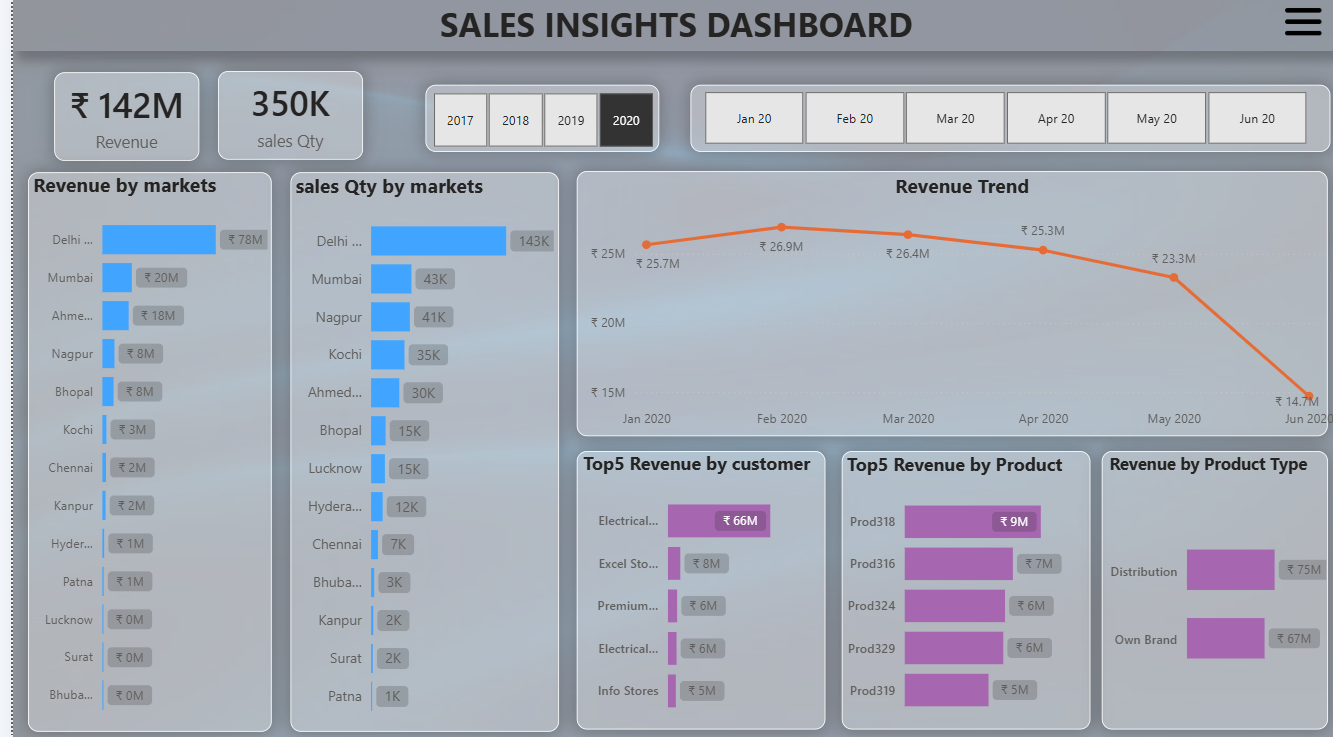

What the dashboard file says about the page in this screenshot:
{"tool":"powerbi","page":{"name":"Key Insight","canvas":[1280,720],"ordinal":0},"visuals":[{"type":"textbox","box":[0,0,1280.5,53],"z":0},{"type":"image","box":[1222,2.9,46.8,45.4],"z":1000},{"type":"shape","box":[197.8,72.4,139.9,85.6],"z":6000},{"type":"shape","box":[39.8,73.6,139.9,85.6],"z":7000},{"type":"shape","box":[267.7,170.1,259.3,540.3],"z":8000},{"type":"shape","box":[14.5,170.1,235.2,540.3],"z":9000},{"type":"card","fields":{"Values":["Base Measures 2.Revenue"]},"box":[39.8,73.6,139.9,84.4],"z":10000},{"type":"card","fields":{"Values":["Base Measures 2.sales Qty"]},"box":[197.8,71.2,139.9,86.8],"z":11000},{"type":"barChart","title":"Revenue by markets","fields":{"Category":["sales markets.markets_name"],"Y":["Base Measures 2.Revenue"]},"box":[14.5,168.8,236.4,540.3],"z":14000},{"type":"barChart","title":"sales Qty by markets","fields":{"Category":["sales markets.markets_name"],"Y":["Base Measures 2.sales Qty"]},"box":[267.7,170.1,259.3,540.3],"z":15000},{"type":"shape","box":[653.7,85.6,617.5,65.1],"z":16000},{"type":"shape","box":[398,85.6,225.5,65.1],"z":17000},{"type":"slicer","fields":{"Values":["sales date.year"]},"box":[379.9,86.8,261.7,65.1],"z":18000},{"type":"slicer","fields":{"Values":["sales date.cy_date"]},"box":[641.6,85.6,630.8,63.9],"z":19000},{"type":"shape","box":[543.9,168.8,724.8,255.7],"z":20000},{"type":"shape","box":[543.9,439,240,268.9],"z":21000},{"type":"shape","box":[799.6,439,240,268.9],"z":22000},{"type":"shape","box":[1050.5,439,218.3,268.9],"z":23000},{"type":"lineChart","title":"Revenue Trend","fields":{"Y":["Base Measures 2.Revenue"],"Category":["sales date.cy_date"]},"box":[552.5,170.1,727.5,255.8],"z":24000},{"type":"barChart","title":"Top5 Revenue by customer","fields":{"Y":["Base Measures 2.Revenue"],"Category":["sales customers.custmer_name"]},"box":[545.1,439,240,270.2],"z":25000},{"type":"barChart","title":"Top5 Revenue by Product","fields":{"Y":["Base Measures 2.Revenue"],"Category":["sales products.product_code"]},"box":[799.6,440.2,240,267.7],"z":26000},{"type":"barChart","title":"Revenue by Product Type","fields":{"Y":["Base Measures 2.Revenue"],"Category":["sales products.product_type"]},"box":[1052.9,440.2,219.5,267.7],"z":27000}]}

Visuals, with their boxes in screenshot pixels (x1, y1, x2, y2), scaled from the page's 1280x720 canvas onto the 1333x737 screenshot:
textbox: l=0, t=0, r=1332, b=54
image: l=1273, t=3, r=1321, b=49
shape: l=206, t=74, r=352, b=162
shape: l=41, t=75, r=187, b=163
shape: l=279, t=174, r=549, b=727
shape: l=15, t=174, r=260, b=727
card - Base Measures 2.Revenue: l=41, t=75, r=187, b=162
card - Base Measures 2.sales Qty: l=206, t=73, r=352, b=162
"Revenue by markets" barChart: l=15, t=173, r=261, b=726
"sales Qty by markets" barChart: l=279, t=174, r=549, b=727
shape: l=681, t=88, r=1324, b=154
shape: l=414, t=88, r=649, b=154
slicer - sales date.year: l=396, t=89, r=668, b=155
slicer - sales date.cy_date: l=668, t=88, r=1325, b=153
shape: l=566, t=173, r=1321, b=435
shape: l=566, t=449, r=816, b=725
shape: l=833, t=449, r=1083, b=725
shape: l=1094, t=449, r=1321, b=725
"Revenue Trend" lineChart: l=575, t=174, r=1332, b=436
"Top5 Revenue by customer" barChart: l=568, t=449, r=818, b=726
"Top5 Revenue by Product" barChart: l=833, t=451, r=1083, b=725
"Revenue by Product Type" barChart: l=1096, t=451, r=1325, b=725
